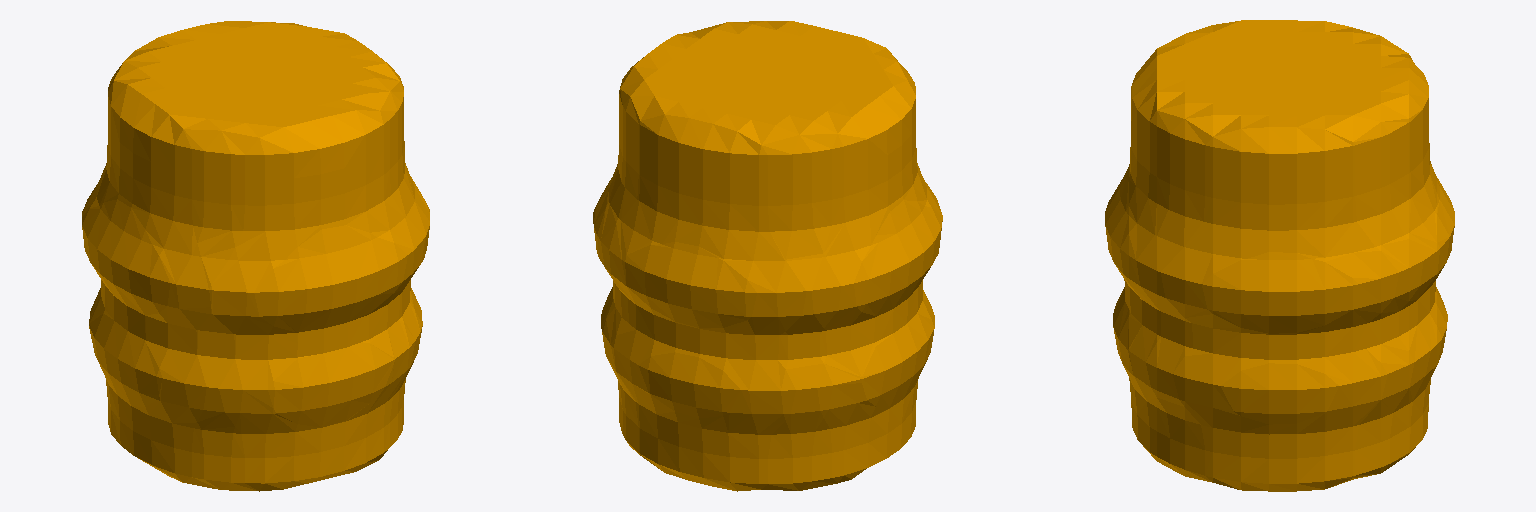
URDF robot description (cylinder_../../meshes/cylinders/cylinder_42.stl):
<?xml version="1.0" encoding="utf-8"?>  <robot name="cylinder_../../meshes/cylinders/cylinder_42.stl">   <link name="cylinder_../../meshes/cylinders/cylinder_42.stl">     <visual>       <geometry>         <mesh filename="../meshes/cylinders/cylinder_42.stl" scale="1 1 1"/>       </geometry>     </visual>     <collision>       <geometry>         <mesh filename="../meshes/cylinders/cylinder_42.stl" scale="1 1 1"/>       </geometry>     </collision>     <inertial>        <origin         xyz="0 0 0"         rpy="0 0 0" />       <mass value="0.1746274676513224"/>       <origin rpy="0 0 0" xyz="0 0 0"/>       <inertia ixx="0.00010223642351248198" ixy="-1.9103396399199557e-09" ixz="4.864639522132928e-09" iyy="0.00010223592042345616" iyz="3.1368409889549257e-09" izz="6.879836479380336e-05"/>     </inertial>   </link>  </robot>

--- What the picture shows (computed from the rendered views, not written in the file) ---
The picture shows the robot from 3 angles, left to right: view 1: azimuth 30°, elevation 25°; view 2: azimuth 150°, elevation 25°; view 3: azimuth 270°, elevation 25°; orthographic projection.
Model cylinder_../../meshes/cylinders/cylinder_42.stl with 1 links and 0 joints (none), rooted at cylinder_../../meshes/cylinders/cylinder_42.stl, posed all joints at 0.
Links seen in each view (by area): view 1: cylinder_../../meshes/cylinders/cylinder_42.stl; view 2: cylinder_../../meshes/cylinders/cylinder_42.stl; view 3: cylinder_../../meshes/cylinders/cylinder_42.stl.
Boxes of the visible links, x1,y1,x2,y2 form: cylinder_../../meshes/cylinders/cylinder_42.stl: (82, 21, 429, 491); cylinder_../../meshes/cylinders/cylinder_42.stl: (593, 21, 942, 491); cylinder_../../meshes/cylinders/cylinder_42.stl: (1105, 20, 1454, 491).
Bounding box of the posed robot: 0.0625 × 0.0625 × 0.0717 m (x, y, z).
1 mesh visuals loaded from 1 distinct referenced files (1 binary STL).